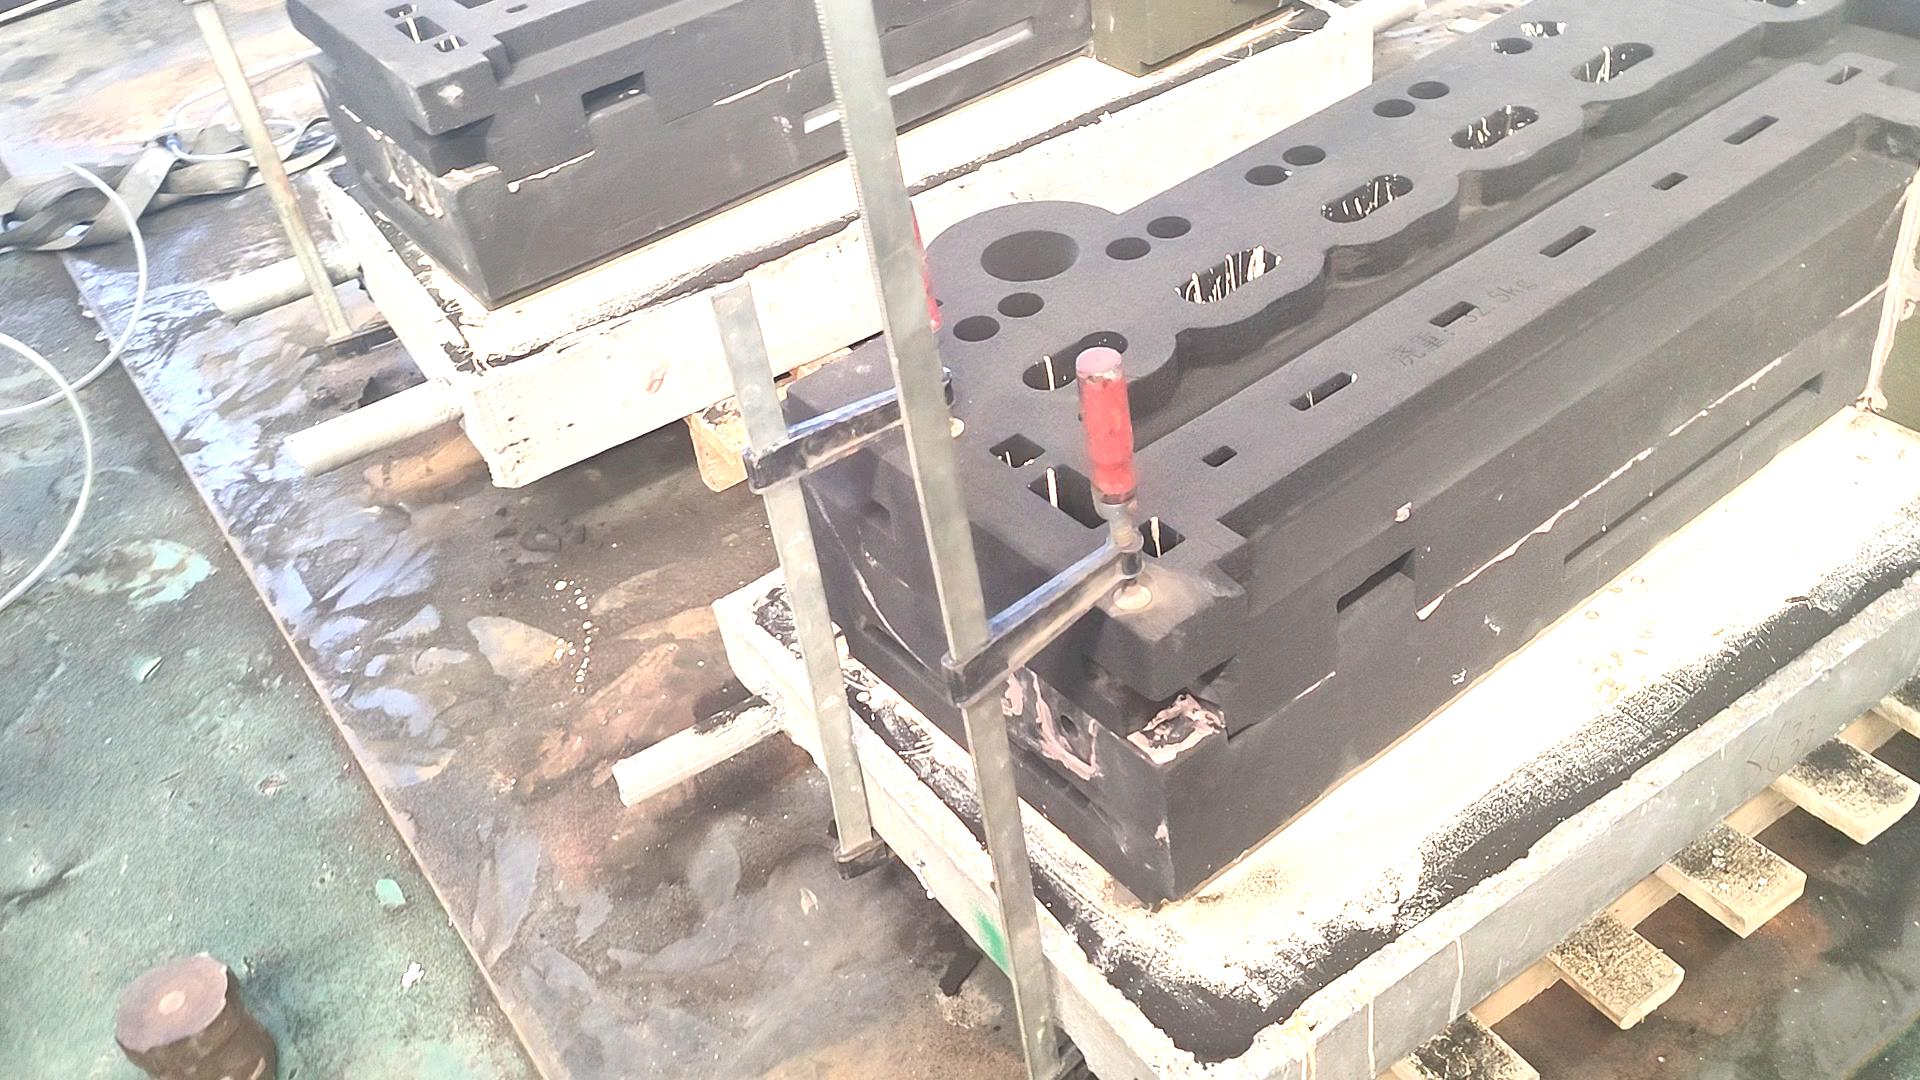pouring hole: (980, 229, 1079, 282)
